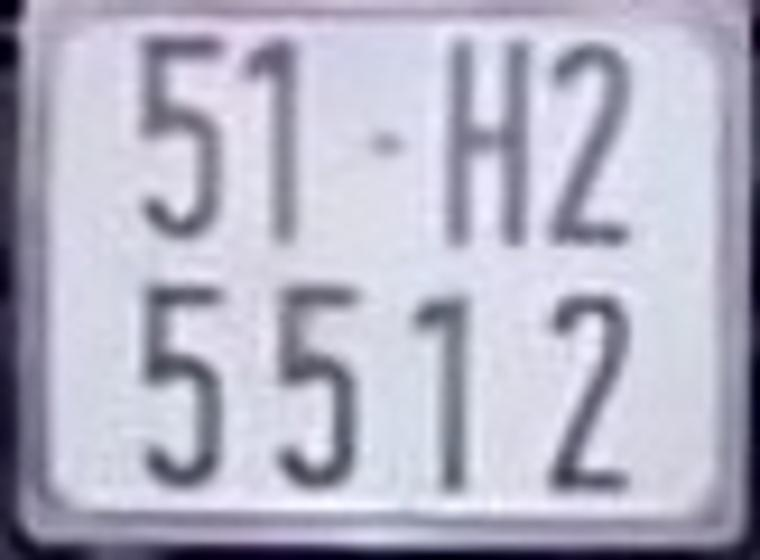-: (356, 128, 410, 160)
1: (238, 35, 306, 253), (406, 290, 476, 490)
2: (547, 288, 641, 495), (546, 38, 639, 247)
5: (272, 277, 372, 494), (133, 34, 235, 245), (138, 275, 231, 491)
H: (446, 21, 534, 249)
